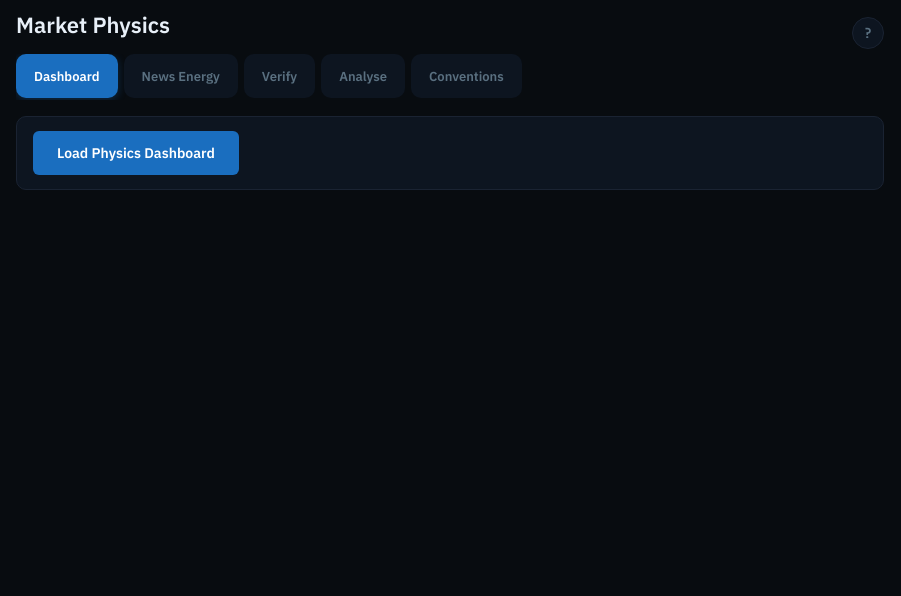
Test case: Physics news-energy honesty states › shows a stale banner and names excluded sources instead of presenting old numbers as current
Click the button "News Energy" at (181, 76), box [124,54,238,98]
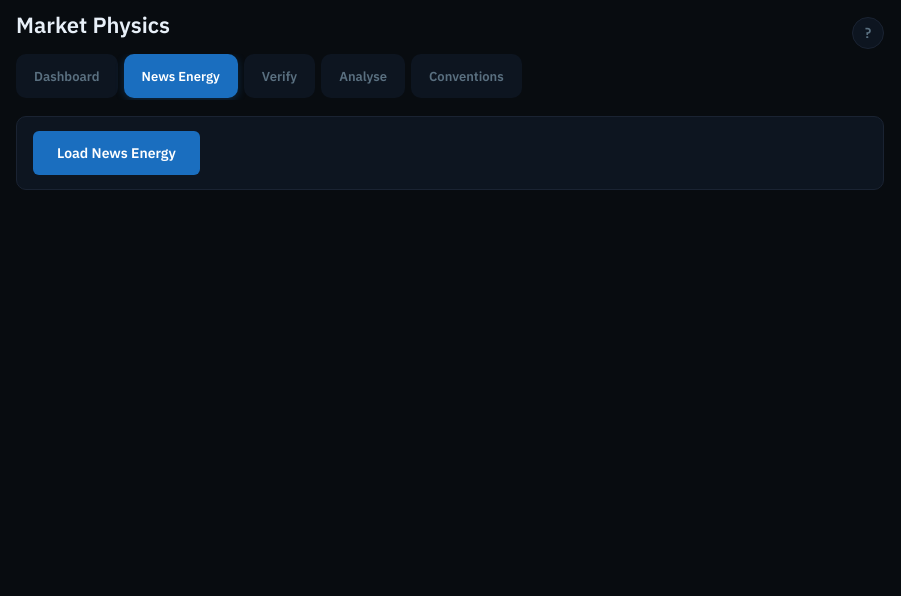
Click the button "Load News Energy" at (116, 153), box [33,131,200,175]
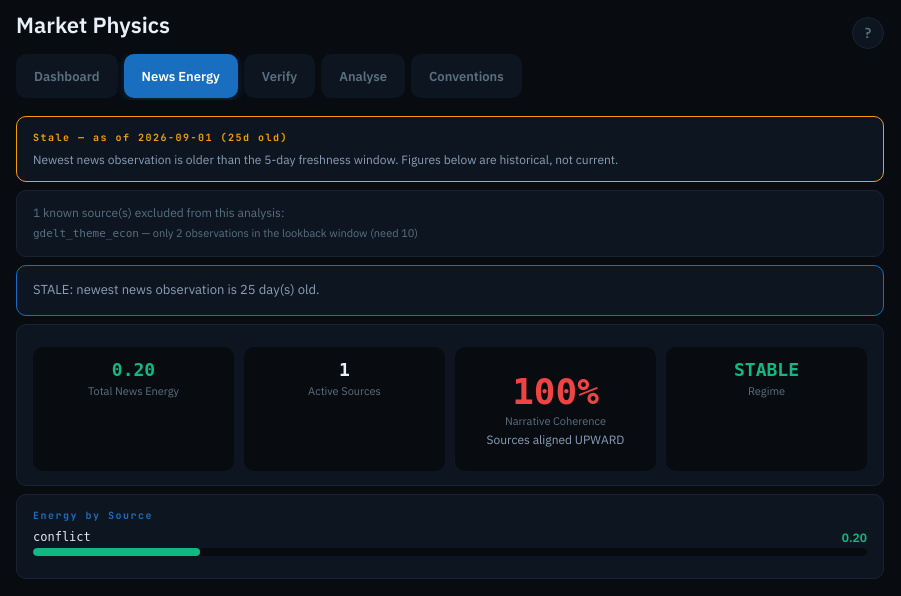
Result: the text "Stale — as of 2026-09-01 (25d old)" is shown at [33,131,288,144]
Result: the text "gdelt_theme_econ" is shown at [33,227,139,240]
Result: the text "1 known source(s) excluded from this analysis:" is shown at [33,205,284,220]
